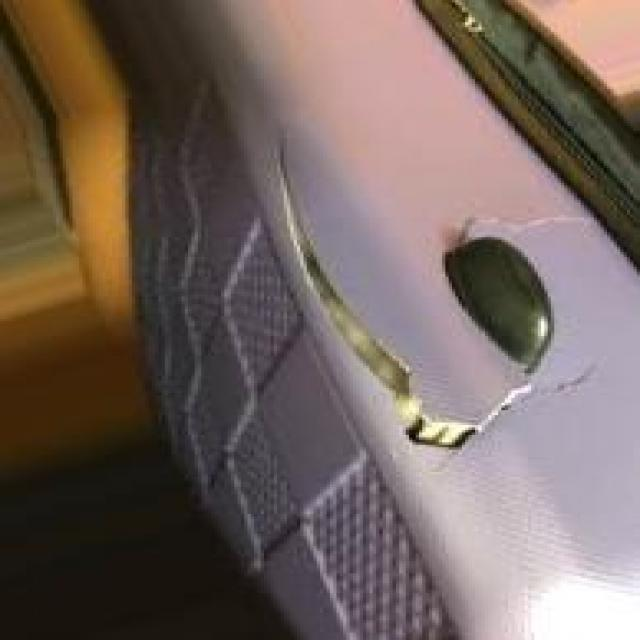Damage-bag: (279, 130, 596, 449), (446, 215, 585, 249)
